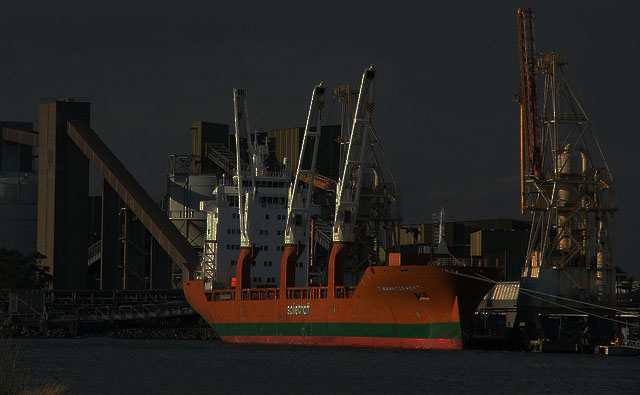bulk carrier: (183, 131, 504, 352)
